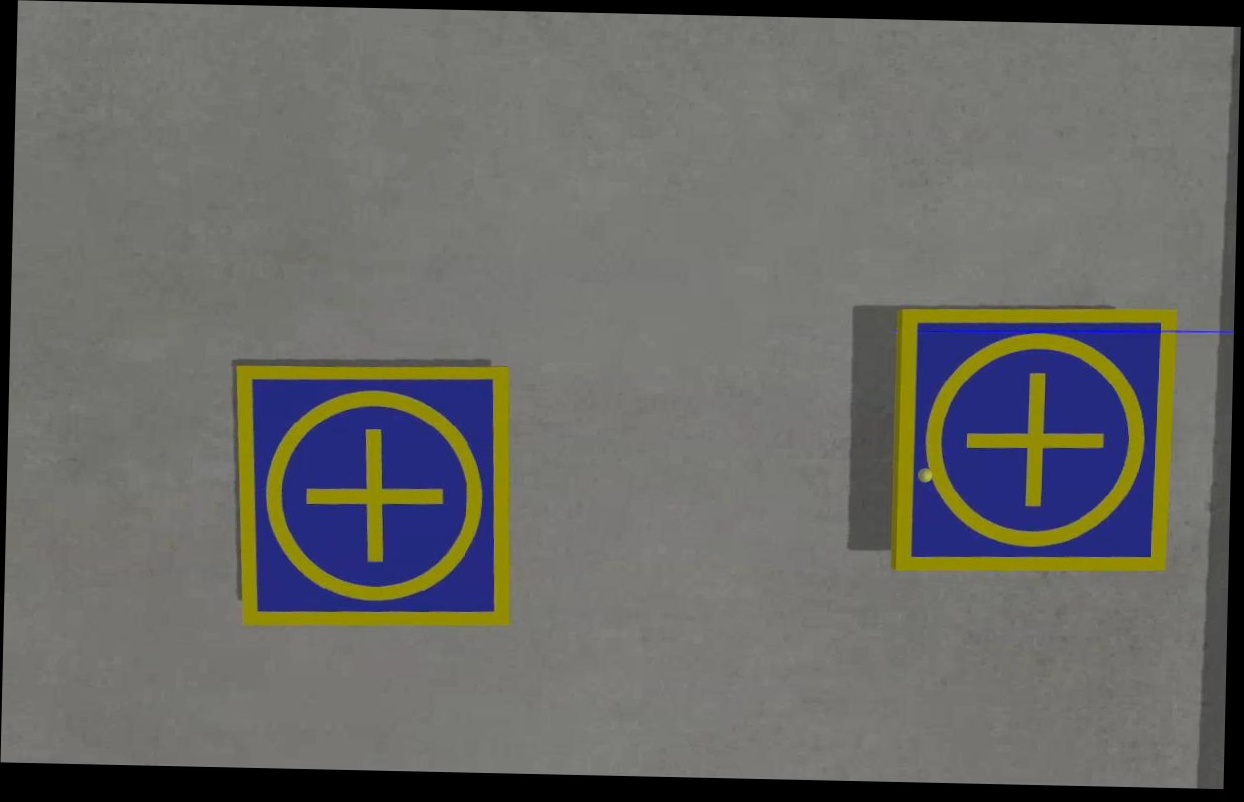small_base: (226, 357, 517, 633), (891, 304, 1175, 577)
